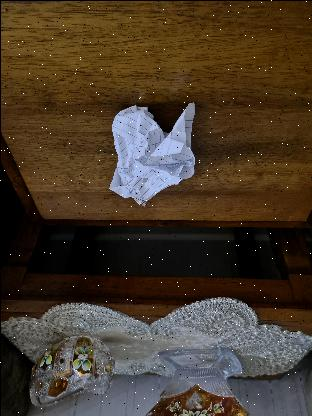Others: (107, 102, 195, 206)
